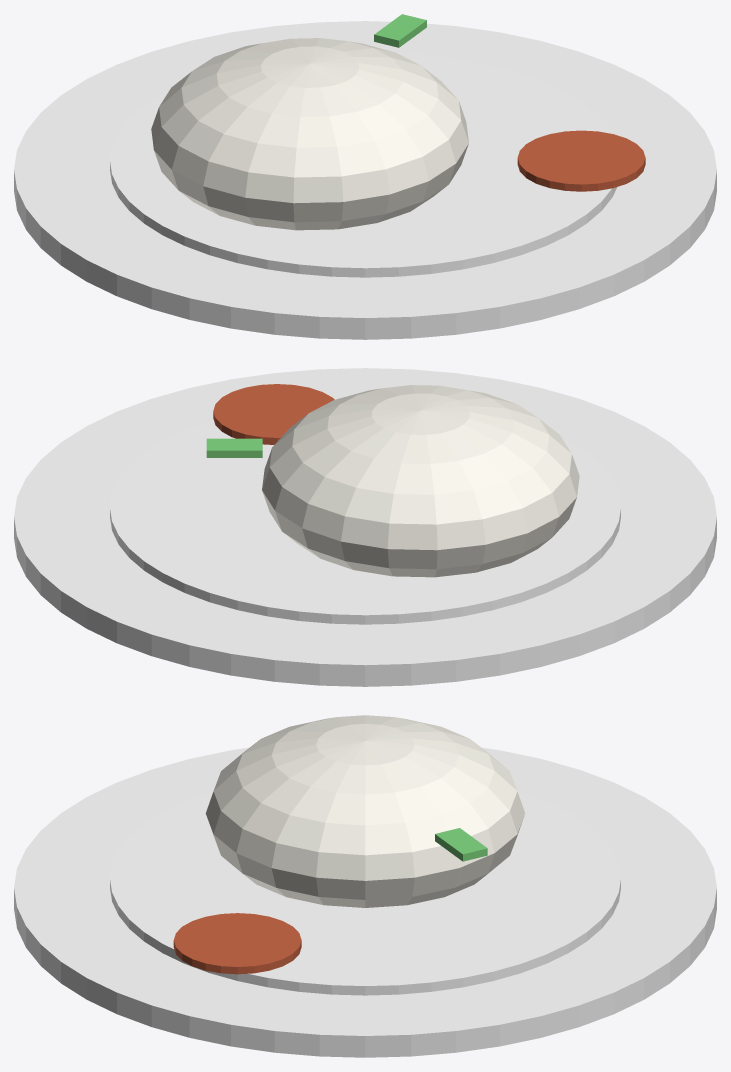
The model's file is plating-dish.glb.
3 renders of one model, top to bottom at view 1: azimuth 30°, elevation 25°; view 2: azimuth 150°, elevation 25°; view 3: azimuth 270°, elevation 25°, orthographic.
Visible parts, largest first — view 1: PlatingDish_Plate, PlatingDish_Food_Rice, PlatingDish_Well, PlatingDish_Sauce, PlatingDish_Garnish; view 2: PlatingDish_Plate, PlatingDish_Food_Rice, PlatingDish_Well, PlatingDish_Sauce, PlatingDish_Garnish; view 3: PlatingDish_Plate, PlatingDish_Well, PlatingDish_Food_Rice, PlatingDish_Sauce, PlatingDish_Garnish.
Boxes of the visible parts, x1,y1,x2,y2 form: PlatingDish_Plate: (14,21,716,339); PlatingDish_Food_Rice: (151,38,468,230); PlatingDish_Well: (110,53,617,277); PlatingDish_Sauce: (517,130,645,191); PlatingDish_Garnish: (374,14,426,47); PlatingDish_Plate: (14,368,716,686); PlatingDish_Food_Rice: (262,385,579,577); PlatingDish_Well: (110,420,620,624); PlatingDish_Sauce: (213,384,334,444); PlatingDish_Garnish: (206,438,262,457); PlatingDish_Plate: (14,747,716,1057); PlatingDish_Well: (110,791,620,995); PlatingDish_Food_Rice: (205,715,525,907); PlatingDish_Sauce: (173,913,301,974); PlatingDish_Garnish: (435,828,487,861).
Bounding box in the file's own units: 0.44 × 0.1 × 0.44.
